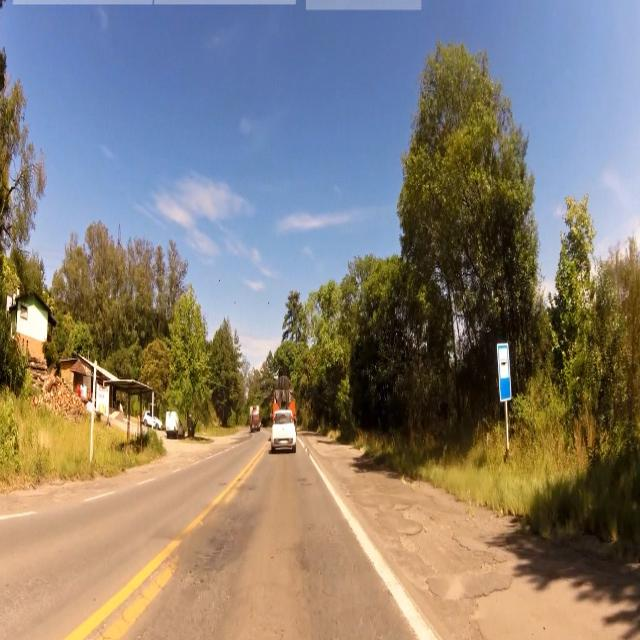S-14: (496, 342, 515, 406)
